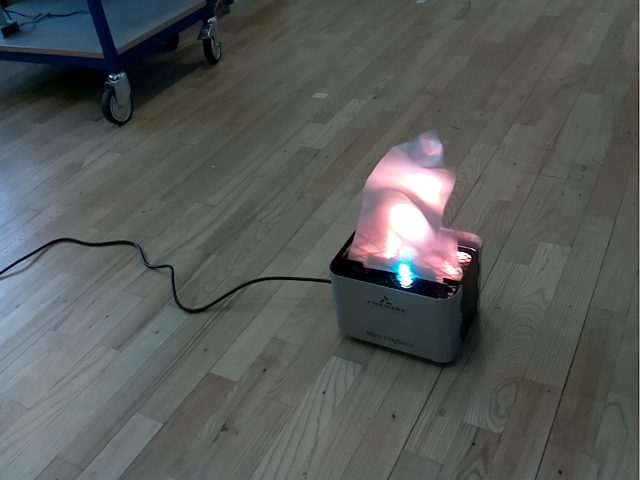fire: (347, 134, 464, 283)
